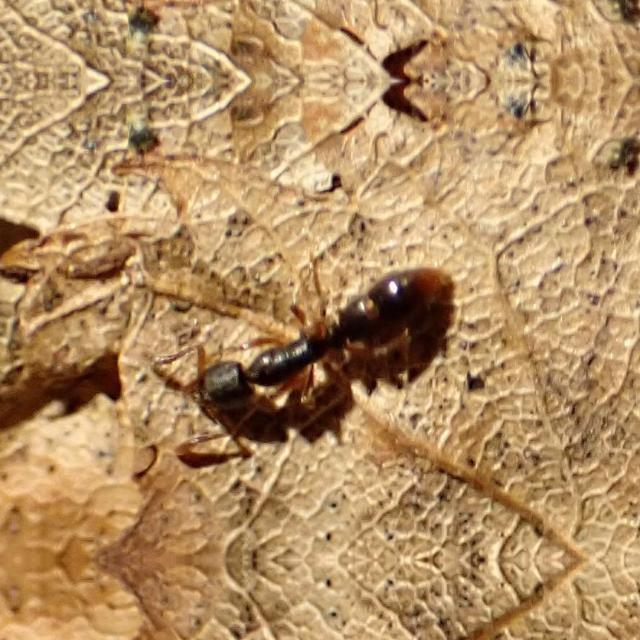Ponera: (154, 254, 466, 428)
